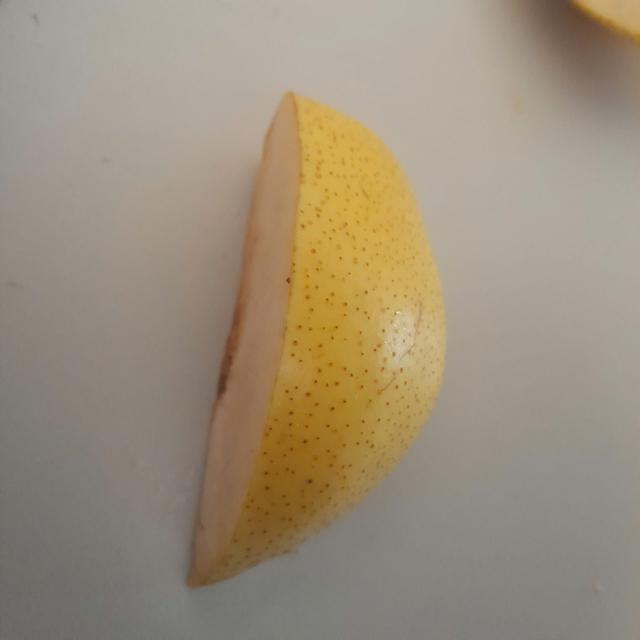Le: (156, 79, 472, 604)
